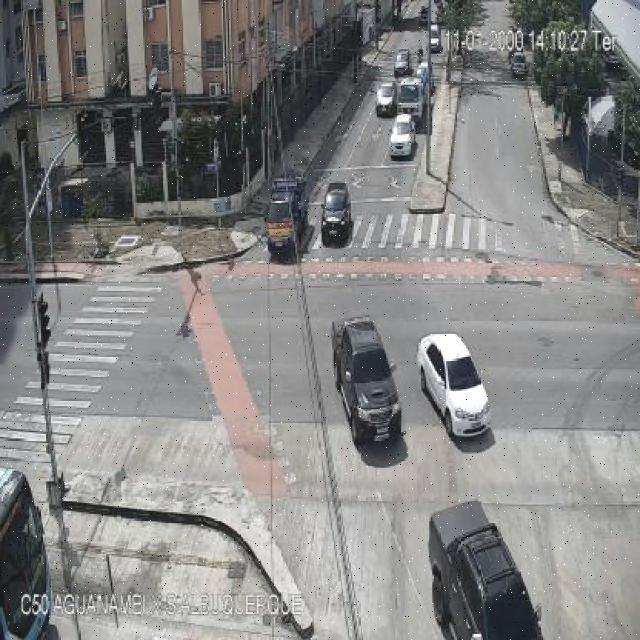Bus: (397, 74, 425, 123)
Car: (418, 331, 490, 442), (320, 188, 350, 244), (388, 115, 417, 161), (374, 81, 397, 117), (511, 52, 527, 73)
Truck: (427, 498, 547, 640), (331, 314, 403, 446), (263, 177, 308, 258)
Van: (428, 22, 442, 52)
